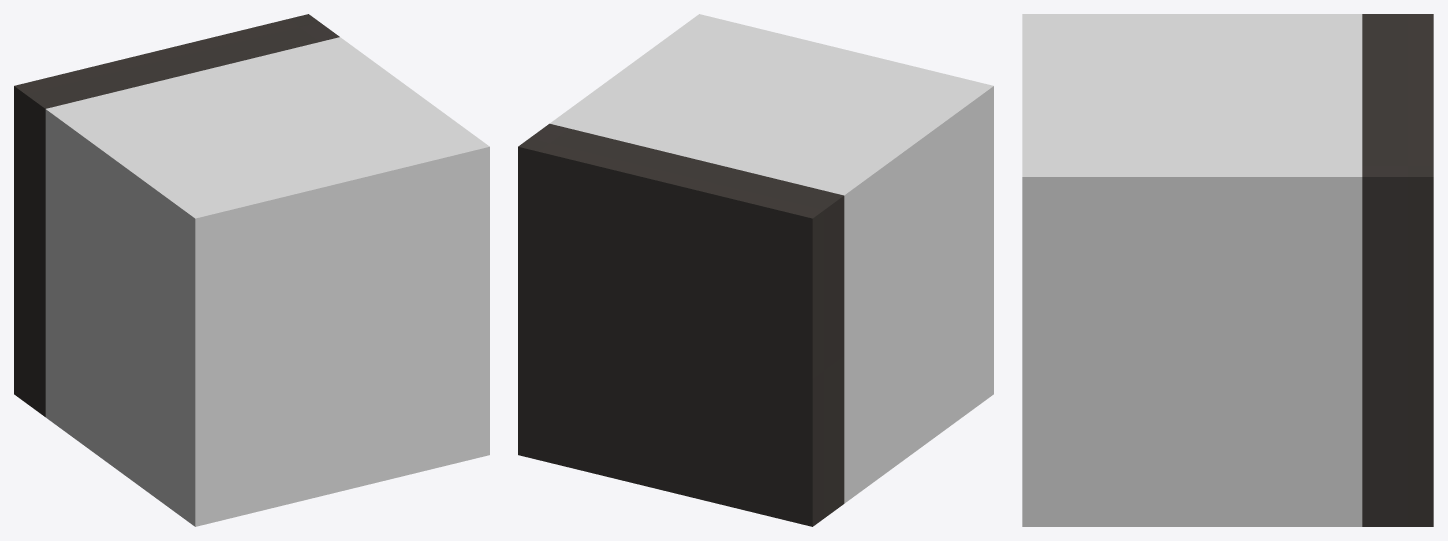
File: SandGlobe.fbx
3 views of the same model, side by side, from view 1: azimuth 30°, elevation 25°; view 2: azimuth 150°, elevation 25°; view 3: azimuth 270°, elevation 25° (orthographic). The views are drawn at different scales.
Visible parts, largest first — view 1: Globe; view 2: Globe; view 3: Globe.
Part boxes in pixels (x1,y1,x2,y2): Globe: (14, 14, 489, 526); Globe: (518, 14, 993, 526); Globe: (1022, 14, 1433, 526).
Size of the model in its own units: 200 by 200 by 213.
Materials: 3 (1 with a texture image).
